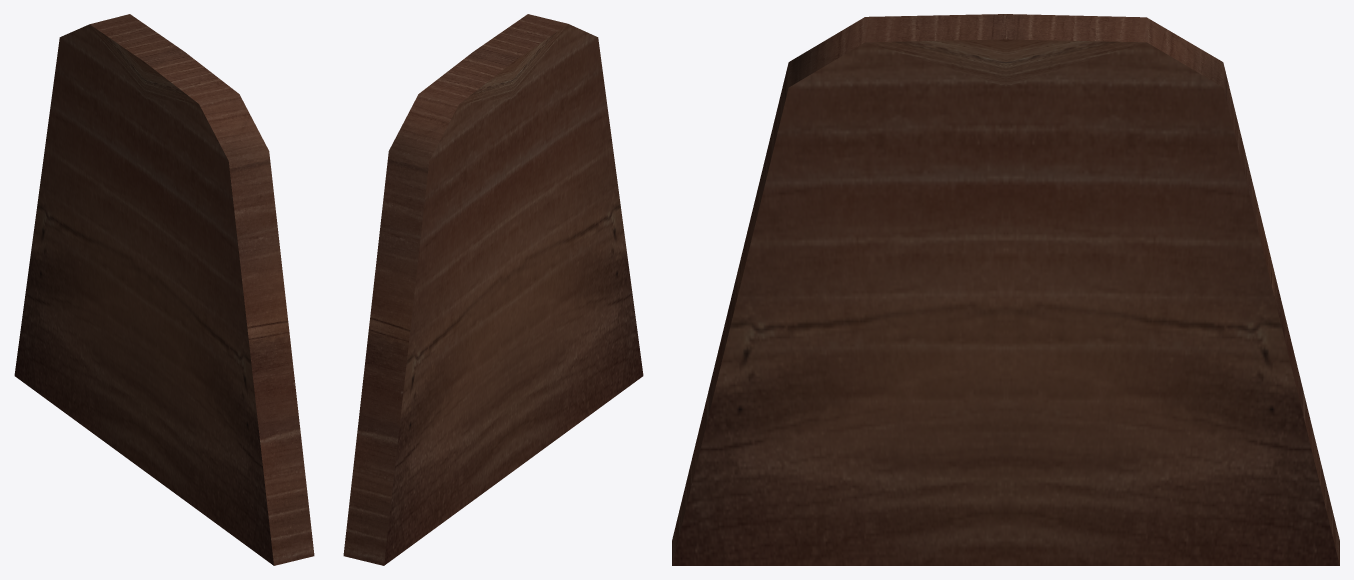
Rendered from SM_R_DancheongSupport_3.fbx.
3 views of the same model, side by side, from view 1: azimuth 30°, elevation 25°; view 2: azimuth 150°, elevation 25°; view 3: azimuth 270°, elevation 25° (orthographic). The views are drawn at different scales.
Parts seen in each view (by area): view 1: SM_R_DancheongSupport_3; view 2: SM_R_DancheongSupport_3; view 3: SM_R_DancheongSupport_3.
Boxes of the visible parts, x1,y1,x2,y2 form: SM_R_DancheongSupport_3: [14, 14, 314, 565]; SM_R_DancheongSupport_3: [343, 14, 643, 565]; SM_R_DancheongSupport_3: [672, 14, 1339, 565].
Bounding box in the file's own units: 9.77 × 108 × 94.27.
Materials: 2 (2 with a texture image).
